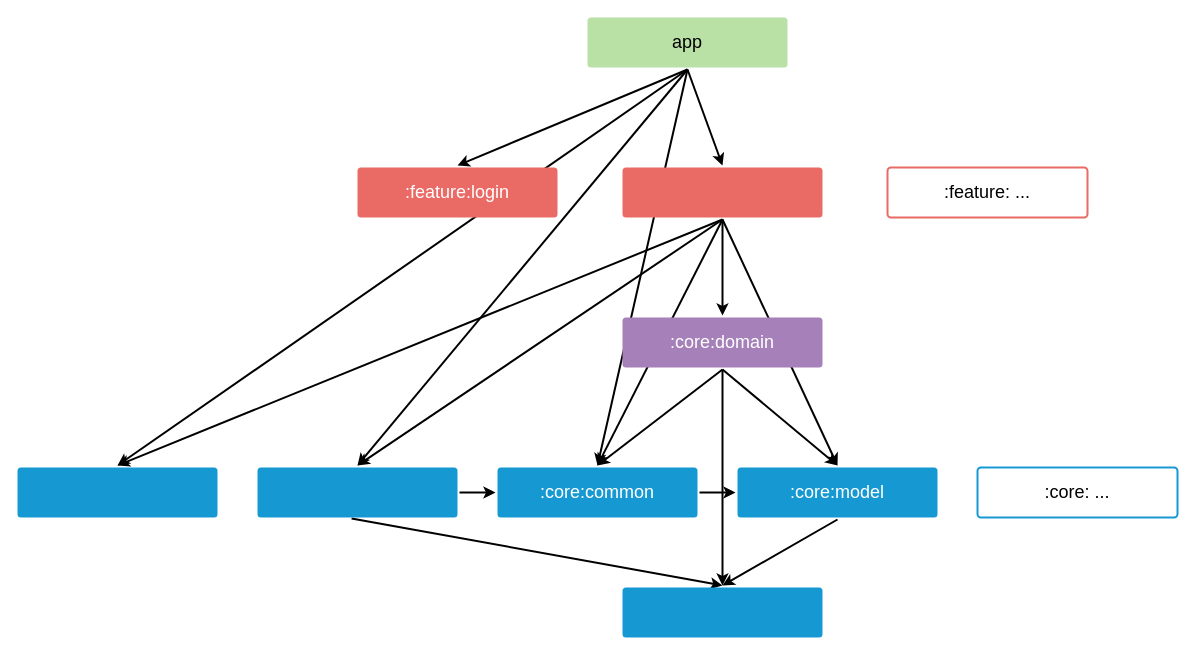
Some shapes in this 1195 by 654 pixel diagram are drawn without their labels. Each missing label, with the centre of its shape:
":core:data" goes at [357,492].
":core:designsystem" goes at [117,492].
":core:network" goes at [722,612].
":feature:teacherschedule" goes at [722,192].
